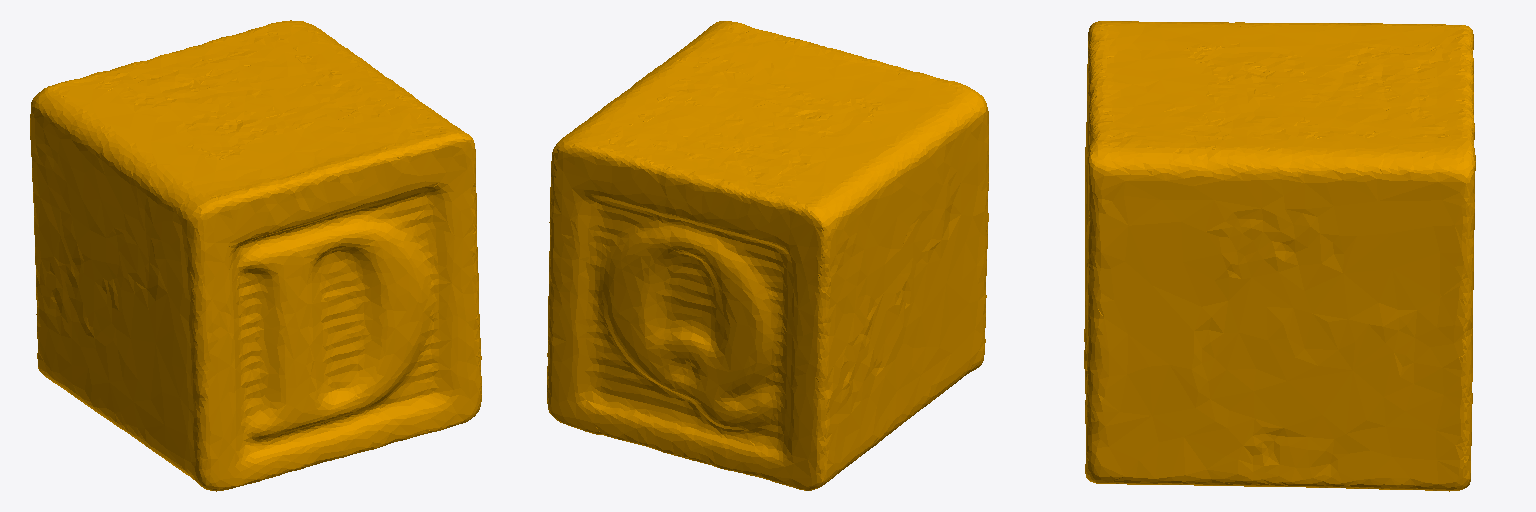
URDF robot description (Granimals_20_Wooden_ABC_Blocks_Wagon_85VdSftGsLi):
<?xml version="1.0"?>
<robot name="Granimals_20_Wooden_ABC_Blocks_Wagon_85VdSftGsLi">
  <link name="base_link">
    <contact>
      <lateral_friction value="1.0"/>
      <rolling_friction value="0.0"/>
      <contact_cfm value="0.0"/>
      <contact_erp value="1.0"/>
    </contact>
    <inertial>
      <mass value="0.752931167962"/>
      <inertia ixx="1" ixy="0" ixz="0" iyy="1" iyz="0" izz="1"/>
    </inertial>
    <visual>
      <geometry>
        <mesh filename="Granimals_20_Wooden_ABC_Blocks_Wagon_85VdSftGsLi_visual.obj"/>
      </geometry>
    </visual>
    <collision>
      <geometry>
        <mesh filename="Granimals_20_Wooden_ABC_Blocks_Wagon_85VdSftGsLi_collision.obj"/>
      </geometry>
    </collision>
  </link>
</robot>

--- What the picture shows (computed from the rendered views, not written in the file) ---
Views: 3 orthographic renders of the robot side by side, from view 1: azimuth 30°, elevation 25°; view 2: azimuth 150°, elevation 25°; view 3: azimuth 270°, elevation 25°.
Robot: Granimals_20_Wooden_ABC_Blocks_Wagon_85VdSftGsLi — 1 links, 0 joints (none); root link base_link; default pose: all joints at 0.
Links seen in each view (by area): view 1: base_link; view 2: base_link; view 3: base_link.
Link boxes in pixels (x1,y1,x2,y2): base_link: [30, 20, 481, 491]; base_link: [547, 21, 988, 490]; base_link: [1084, 21, 1475, 491].
Size in the robot's own frame: 0.0786 by 0.08 by 0.0781 metres.
Meshes: 1 distinct files referenced, 1 mesh visuals loaded (1 OBJ).